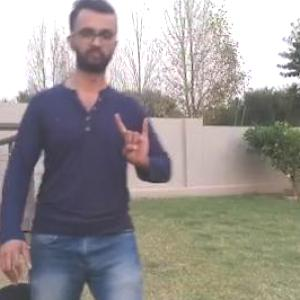takeoff-hand: (113, 105, 158, 170)
